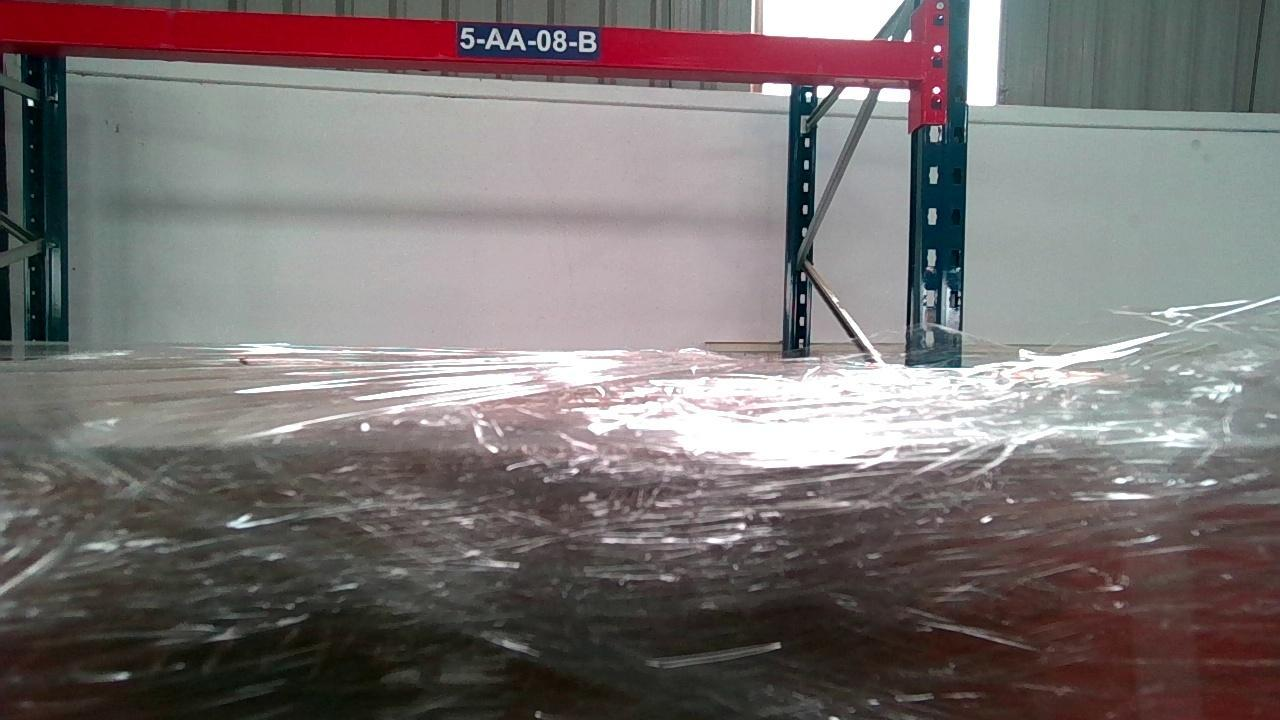h_rack: (0, 1, 923, 79)
